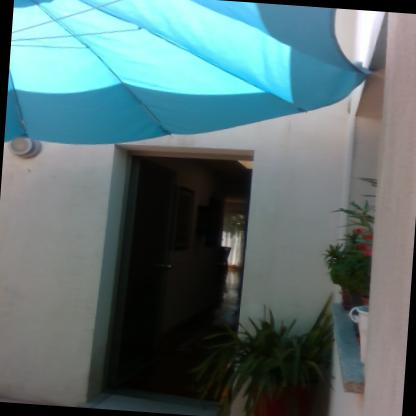open: (81, 139, 262, 415)
